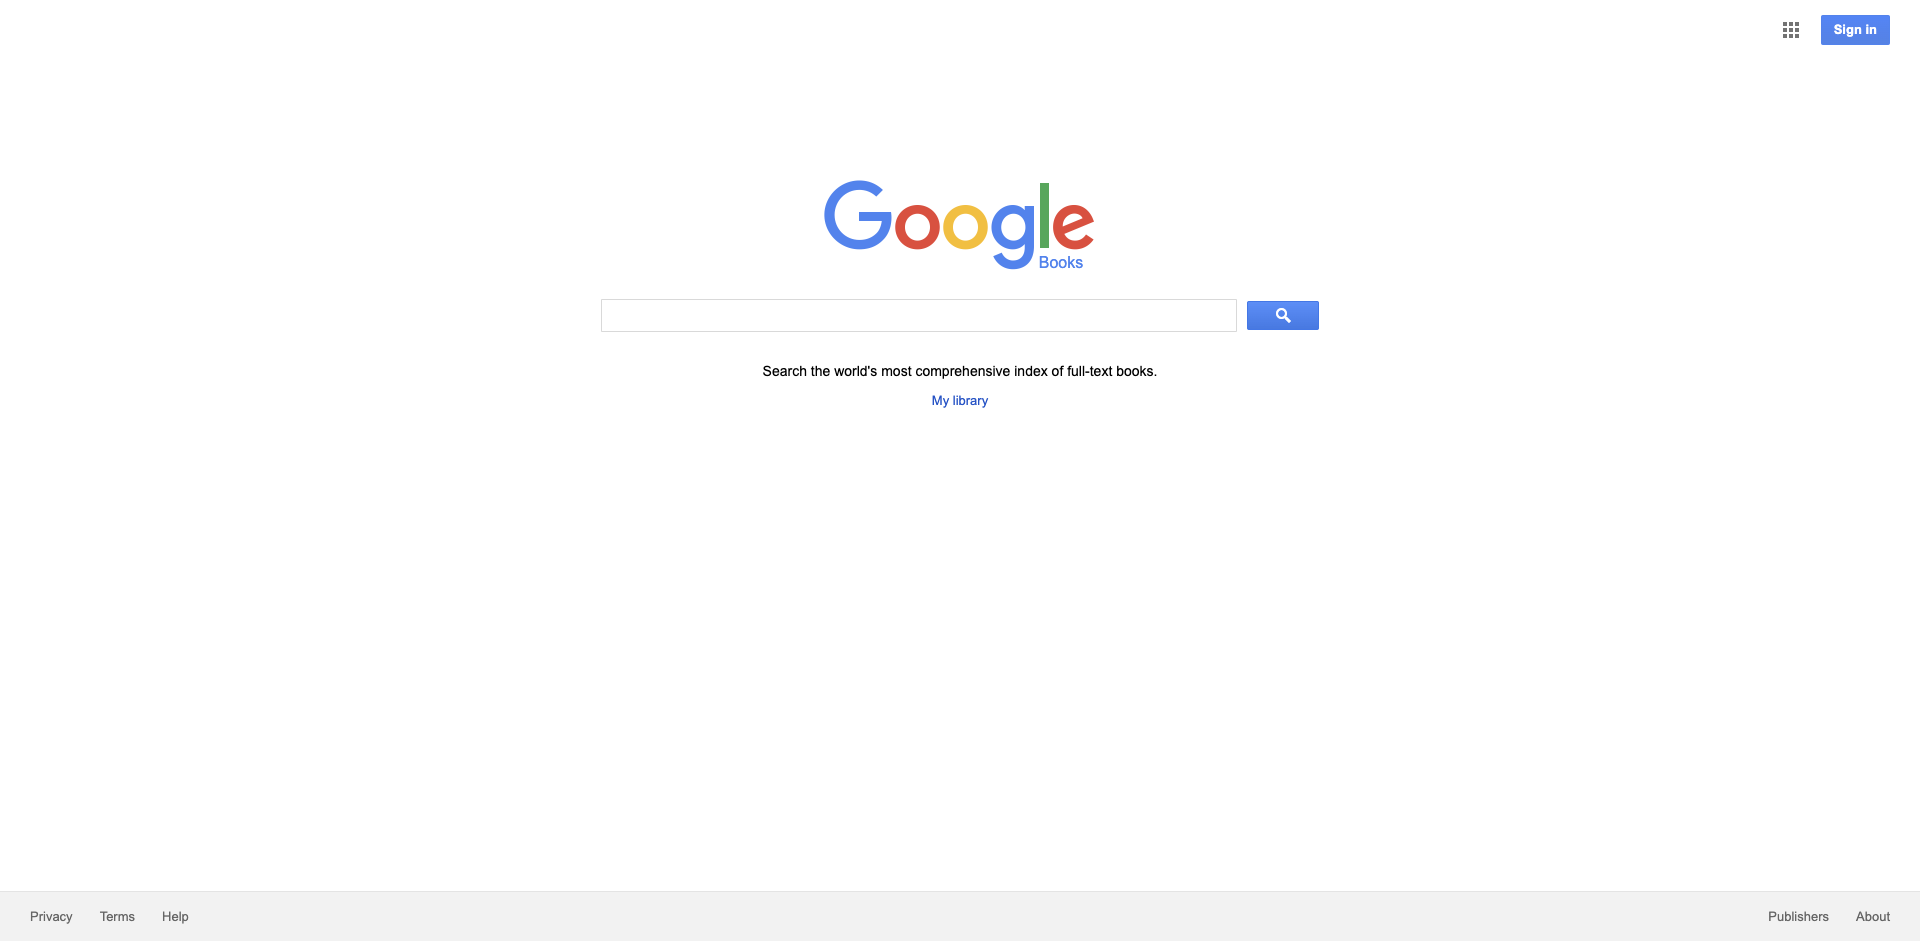button: (1776, 15, 1806, 45)
input: (601, 299, 1237, 332), (1248, 301, 1318, 330)
link: (1768, 892, 1829, 941), (1821, 15, 1891, 45), (29, 892, 72, 941), (99, 892, 135, 941), (1856, 892, 1891, 941), (162, 892, 189, 941), (932, 393, 988, 408)
